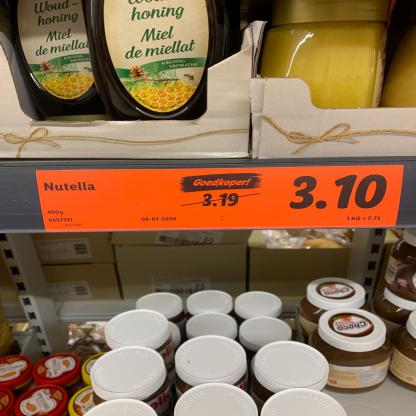prtg: (37, 166, 406, 233)
